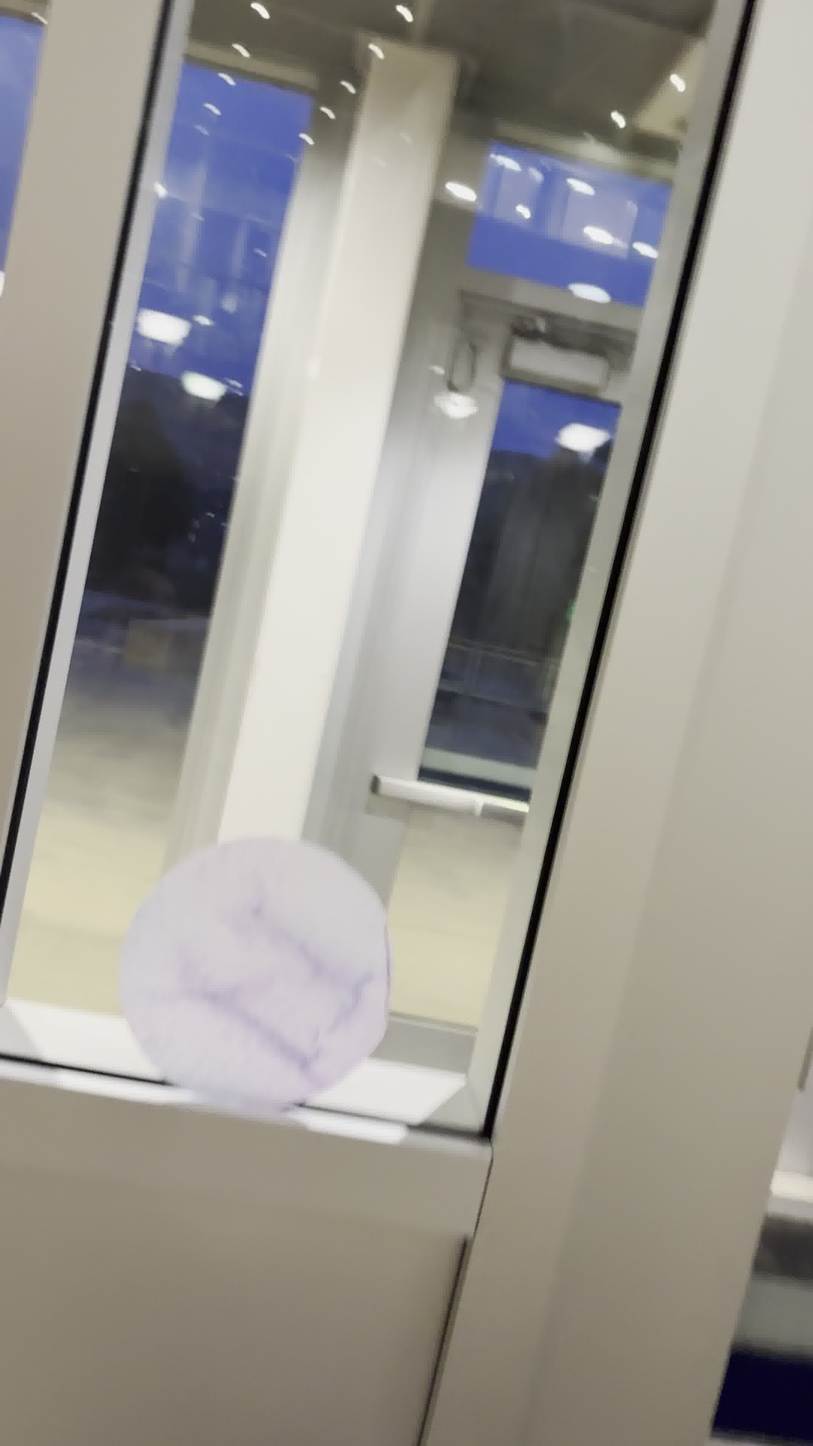Target: (113, 834, 399, 1120)
